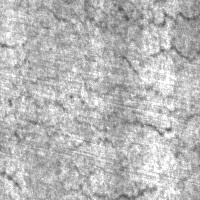crazing: (73, 45, 199, 147), (18, 95, 182, 157), (53, 6, 199, 65), (23, 1, 146, 37)
